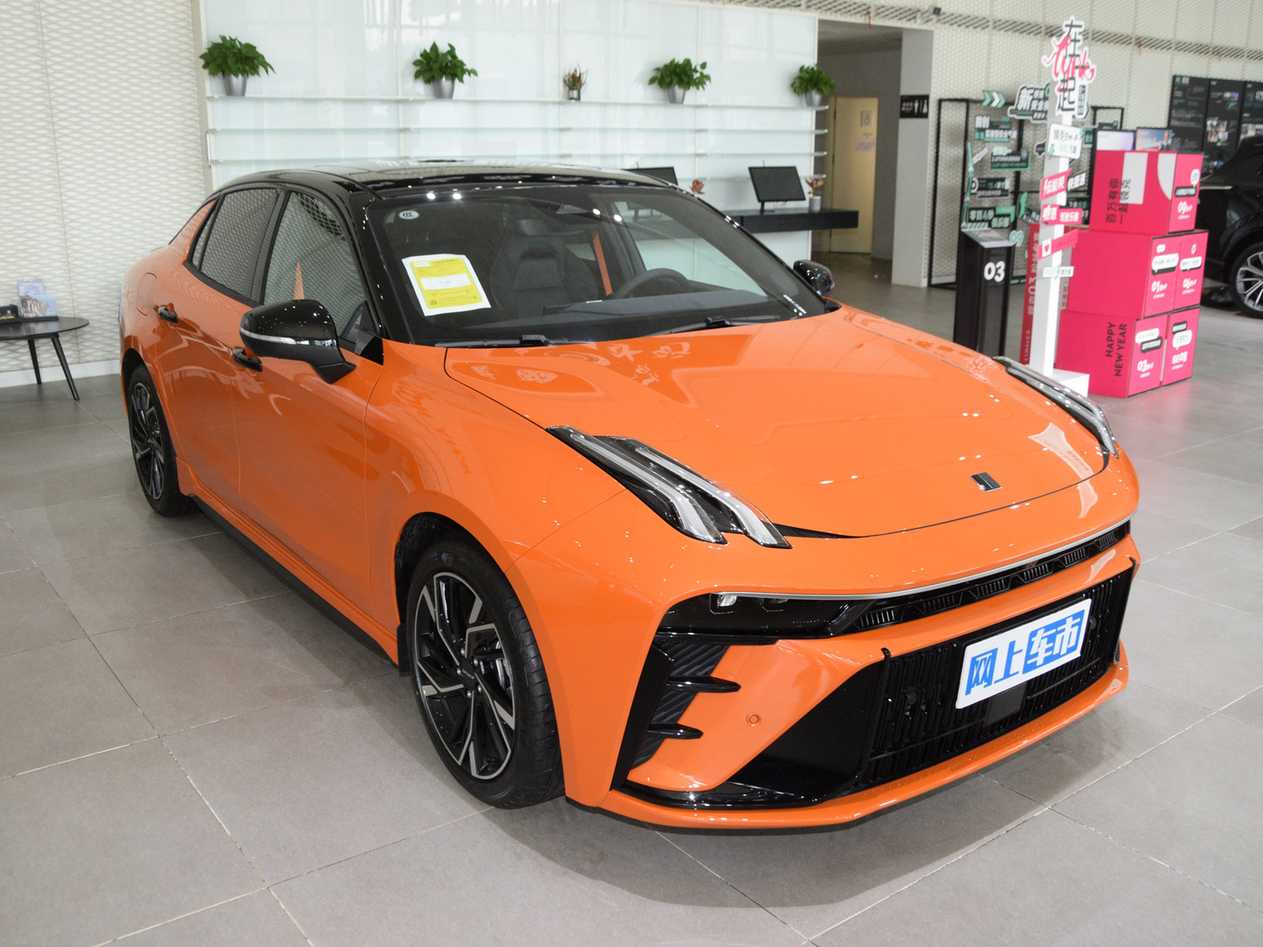LINK&CO: (971, 473, 1002, 492)
